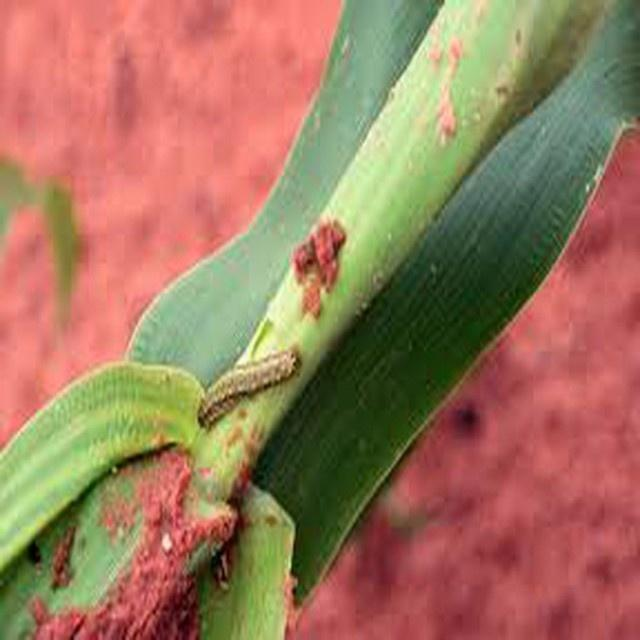Plaga: (193, 344, 300, 436)
